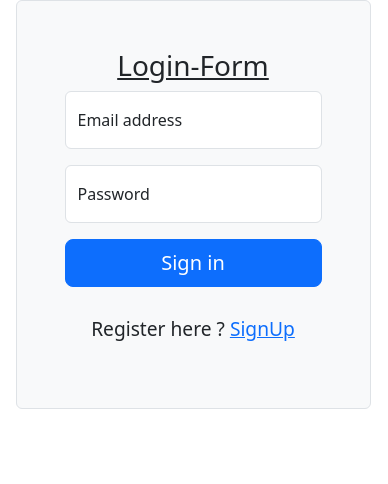
Test: Login Component › displays validation errors on submit with invalid input
Click the button "Sign in". click: click(193, 263)
box: [64, 239, 322, 287]
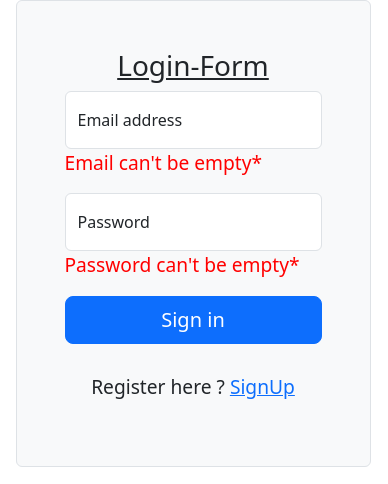
expect the text "Email can't be empty*" is shown: met, box [64, 149, 262, 176]
expect the text "Password can't be empty*" is shown: met, box [64, 251, 322, 280]
